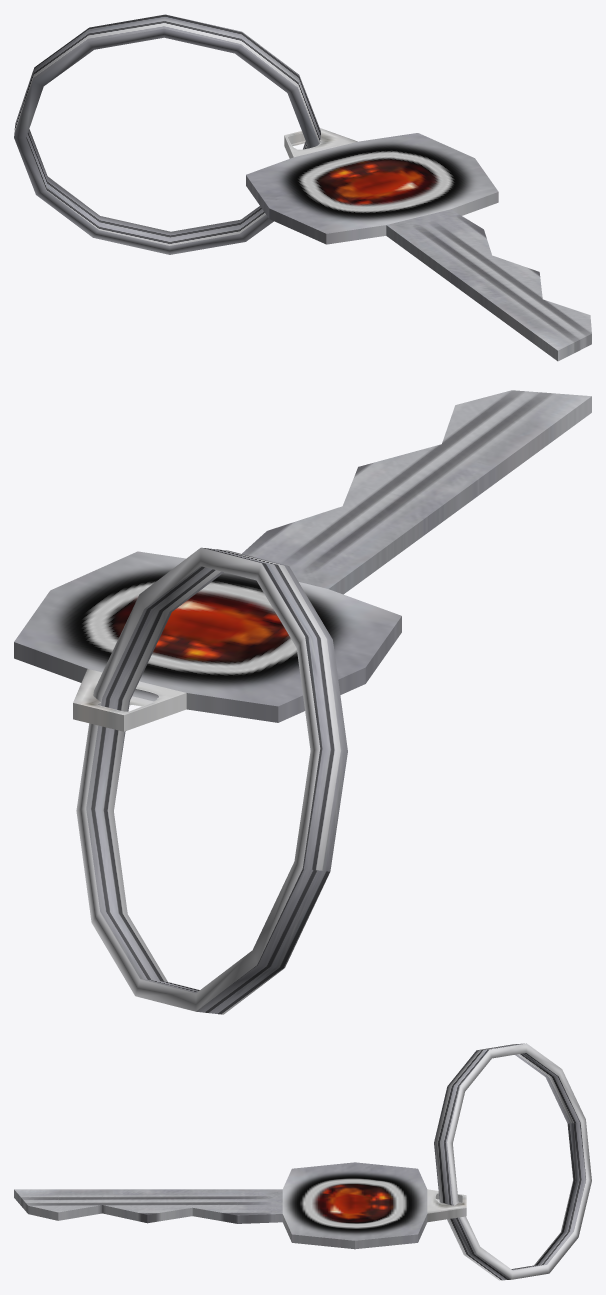
Rendered from key_j_garnet.fbx.
The picture shows the model from 3 angles, top to bottom: view 1: azimuth 30°, elevation 25°; view 2: azimuth 150°, elevation 25°; view 3: azimuth 270°, elevation 25°; orthographic projection. The views are drawn at different scales.
Visible parts, largest first — view 1: key_j_garn; view 2: key_j_garn; view 3: key_j_garn.
Part boxes in pixels (x1,y1,x2,y2): key_j_garn: (14,14,591,361); key_j_garn: (14,390,591,1014); key_j_garn: (14,1043,591,1280).
Size of the model in its own units: 10.2 by 8.2 by 20.28.
Materials: 1 (1 with a texture image).
